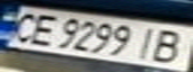2: (72, 17, 96, 54)
9: (51, 16, 84, 52), (109, 21, 139, 59), (90, 20, 115, 56)
B: (145, 26, 193, 65)
C: (0, 9, 48, 44)
E: (21, 11, 63, 47)
I: (130, 25, 166, 61)
